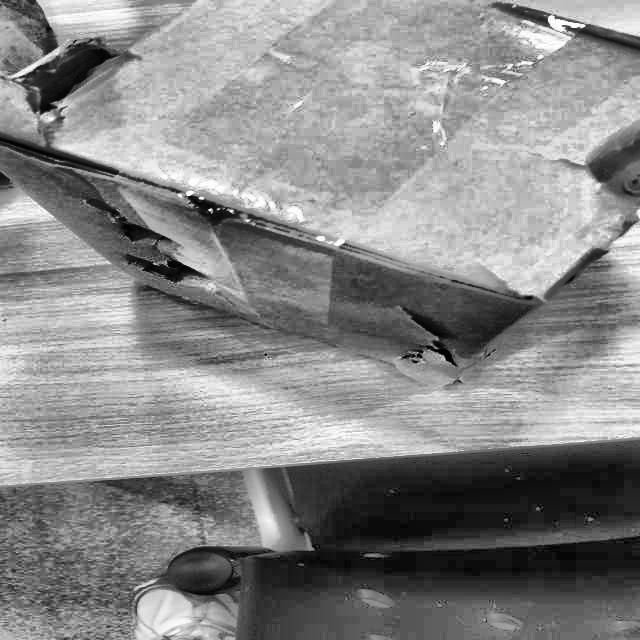box: (0, 0, 639, 395)
hole: (91, 211, 214, 291), (21, 45, 126, 119), (400, 304, 468, 384)
